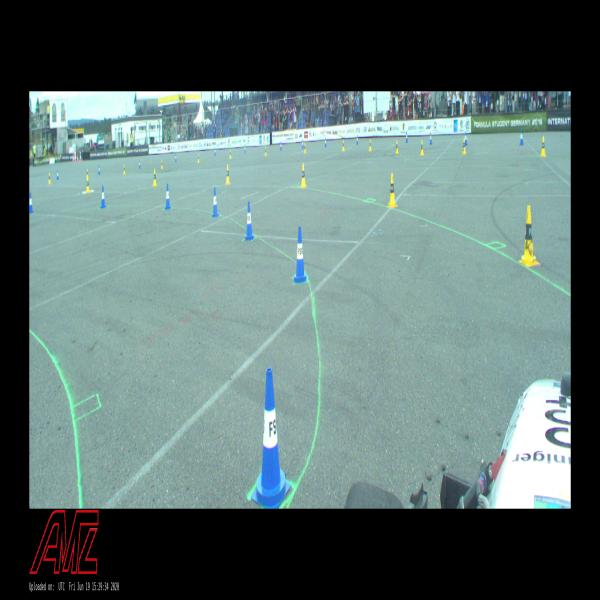blue_cone: (252, 368, 290, 508), (293, 226, 307, 283), (243, 202, 255, 241), (212, 187, 219, 217), (165, 184, 171, 209), (100, 185, 106, 209), (30, 193, 34, 213), (520, 129, 524, 146), (429, 132, 432, 145), (405, 132, 408, 143), (56, 170, 59, 180), (301, 140, 304, 150), (324, 137, 327, 147), (279, 142, 282, 151), (465, 132, 467, 145), (356, 135, 358, 145), (139, 159, 141, 169), (98, 165, 100, 175), (214, 147, 216, 156), (244, 145, 246, 153), (175, 154, 177, 162)
yellow_cone: (519, 206, 539, 266), (388, 174, 397, 208), (300, 163, 307, 189), (540, 136, 546, 157), (226, 164, 230, 184), (153, 168, 157, 187), (462, 138, 466, 155), (86, 177, 90, 193), (420, 140, 424, 155), (368, 138, 372, 152), (395, 140, 399, 153), (48, 172, 51, 185), (160, 160, 164, 169), (264, 146, 267, 157), (123, 164, 126, 175), (342, 140, 345, 150), (229, 149, 232, 159), (86, 168, 89, 178), (197, 154, 200, 163), (304, 142, 306, 153)
